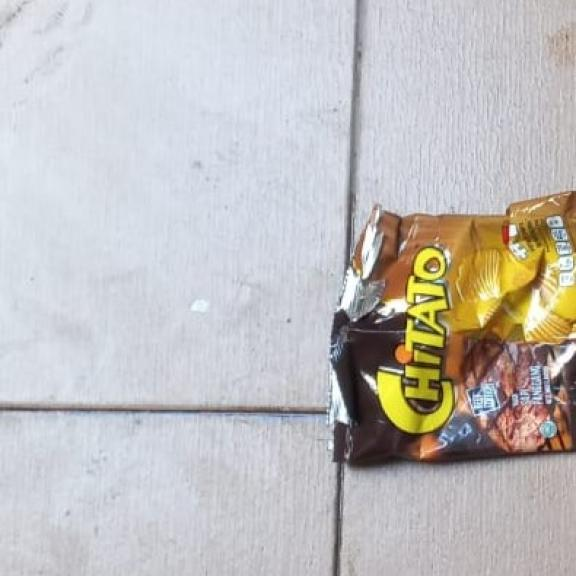Plastik: (326, 188, 576, 463)
